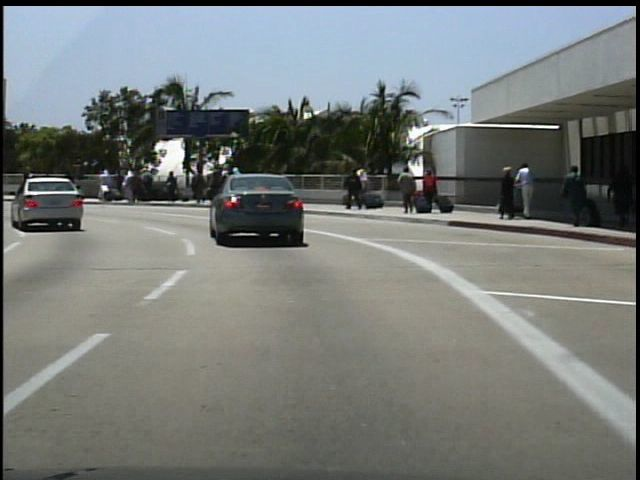person: (605, 157, 634, 229), (559, 164, 590, 228), (515, 161, 537, 221), (497, 163, 519, 220), (396, 165, 419, 216), (344, 167, 365, 212), (422, 167, 441, 212), (62, 167, 83, 198), (49, 167, 65, 201), (29, 166, 30, 199)
